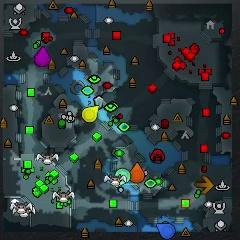p1: (156, 222, 174, 239)
p2: (115, 167, 131, 187)
p3: (35, 45, 51, 67)
p4: (82, 106, 99, 122)
p5: (131, 163, 144, 183)
x5: (195, 176, 213, 194)
